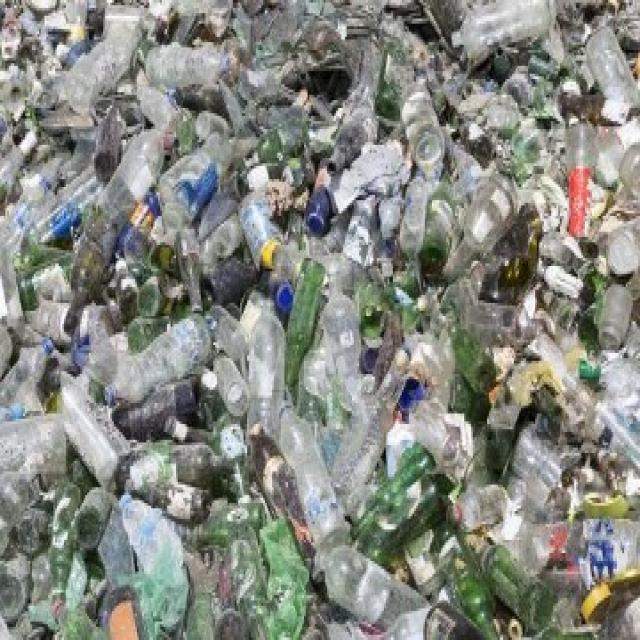electronic: (354, 448, 556, 640)
